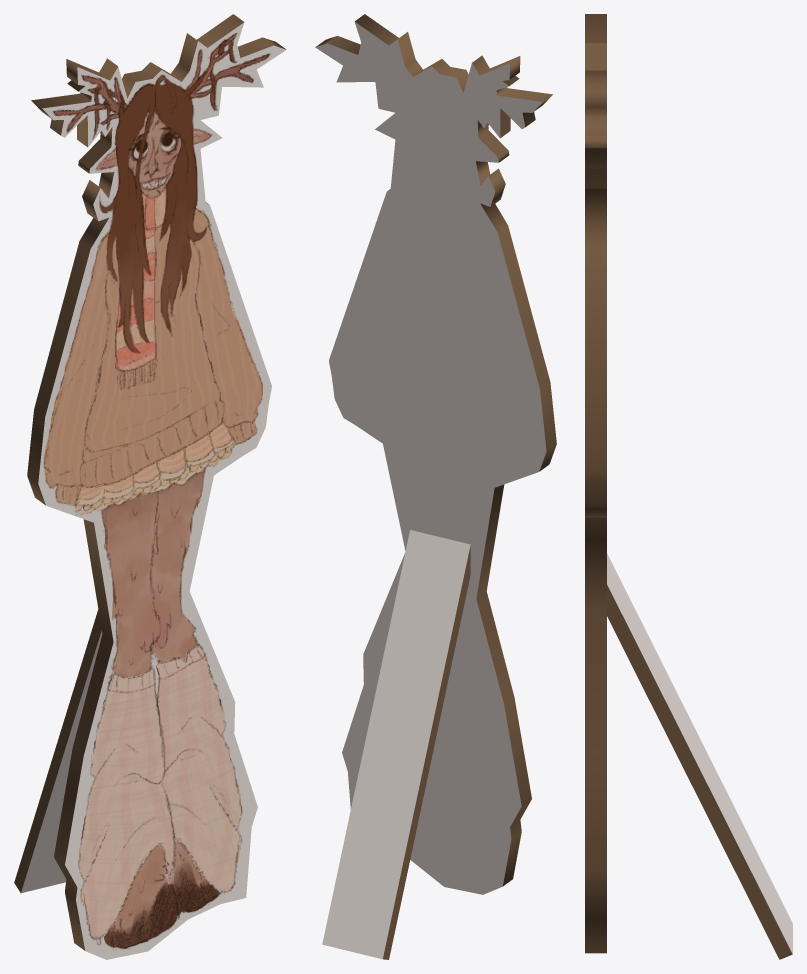
File: Gullan_Neutral.fbx
The picture shows the model from 3 angles, left to right: view 1: azimuth 30°, elevation 25°; view 2: azimuth 150°, elevation 25°; view 3: azimuth 270°, elevation 25°; orthographic projection. The views are drawn at different scales.
Parts seen in each view (by area): view 1: Gullan_Neutral; view 2: Gullan_Neutral; view 3: Gullan_Neutral.
Part boxes in pixels (left/top/right/bottom): Gullan_Neutral: left=14, top=14, right=286, bottom=959; Gullan_Neutral: left=315, top=14, right=556, bottom=959; Gullan_Neutral: left=585, top=14, right=792, bottom=959.
Size of the model in its own units: 53.17 by 187 by 39.1.
Materials: 1 (1 with a texture image).
